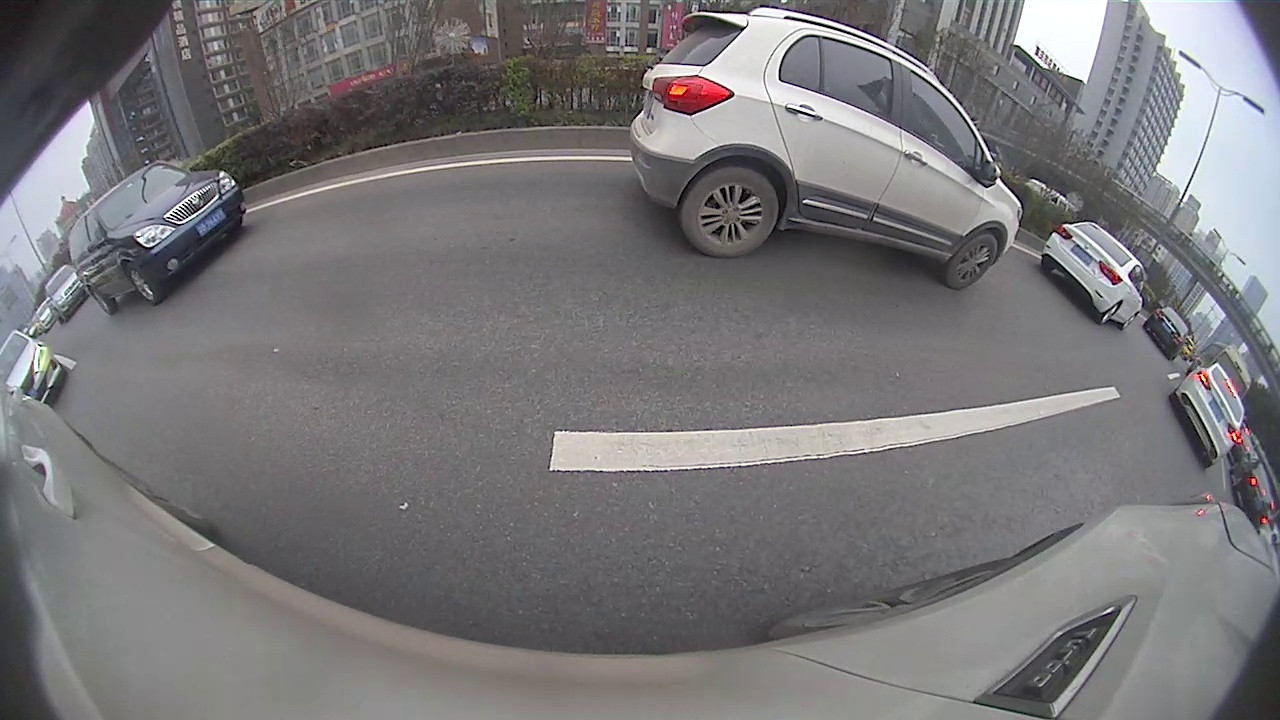car: (628, 7, 1023, 292), (67, 162, 244, 317), (1038, 219, 1148, 331), (1168, 363, 1246, 468), (1143, 306, 1191, 360)
front: (948, 238, 1004, 289), (124, 259, 160, 306)
rear: (686, 164, 780, 258), (1099, 301, 1125, 325)
